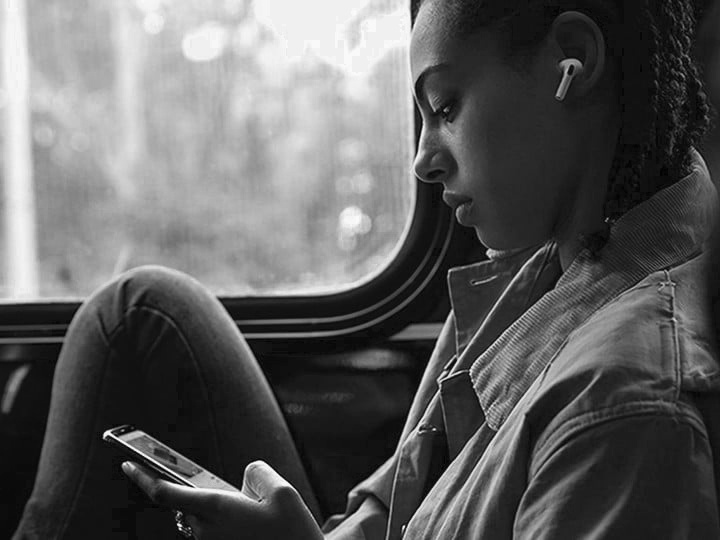earphone: (547, 12, 606, 105)
